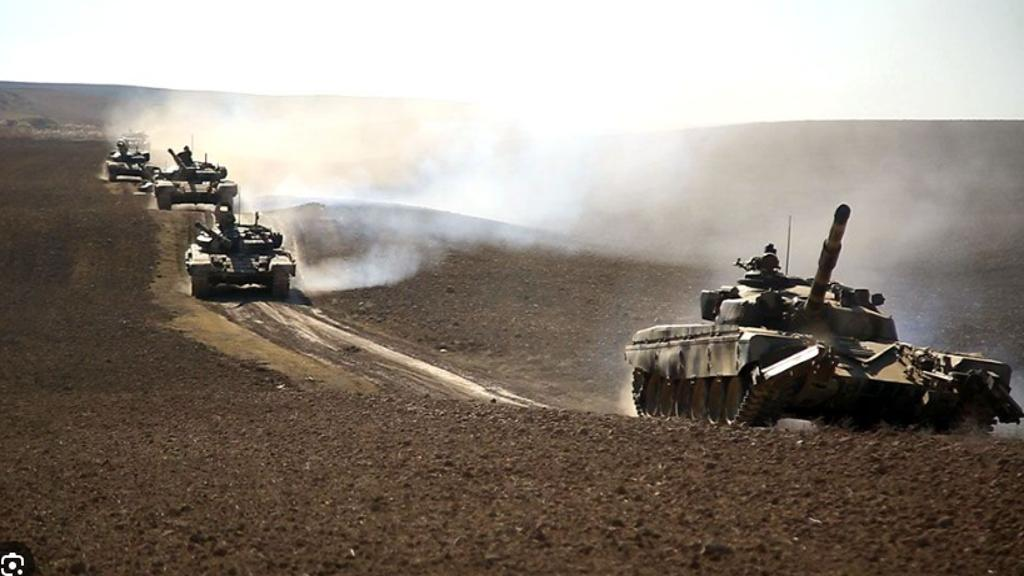TANK: (630, 202, 1019, 424), (177, 215, 293, 306), (155, 142, 239, 213), (103, 145, 156, 186)
